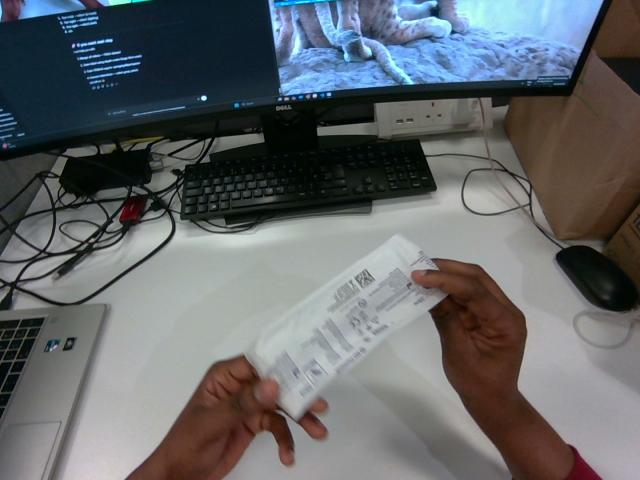syringe: (245, 234, 445, 419)
